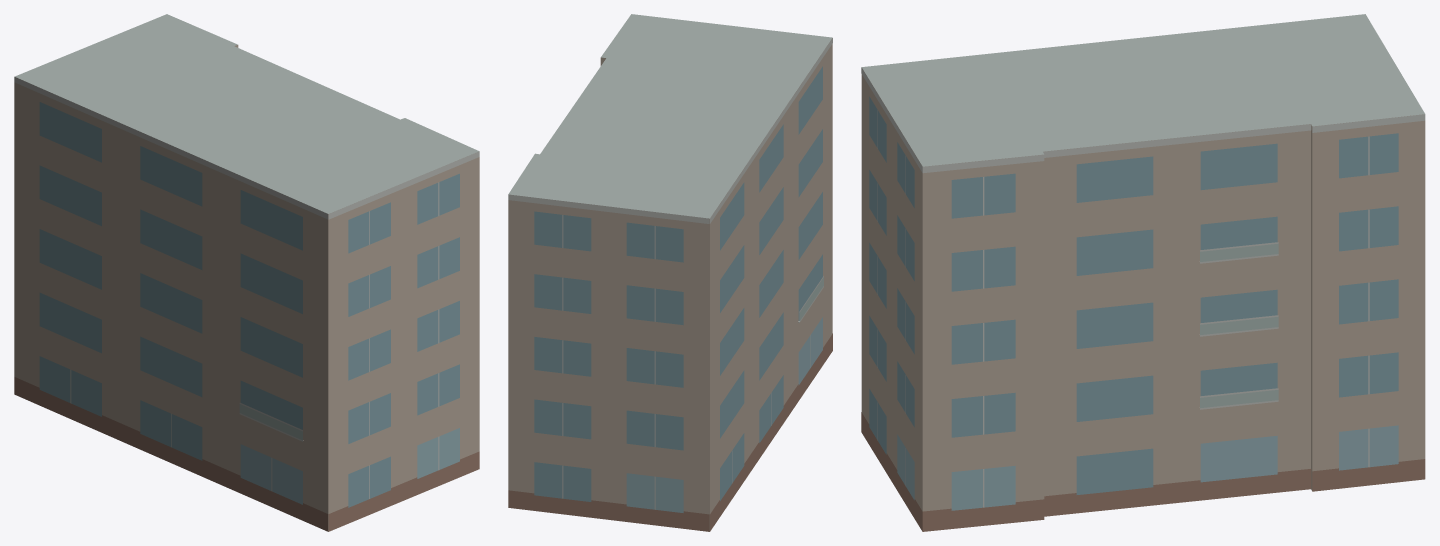
File: survey-upis-32646894.glb
3 renders of one model, left to right at view 1: azimuth 30°, elevation 25°; view 2: azimuth 150°, elevation 25°; view 3: azimuth 270°, elevation 25°, orthographic. The views are drawn at different scales.
Parts seen in each view (by area): view 1: survey-upis-32646894.tmp; view 2: survey-upis-32646894.tmp; view 3: survey-upis-32646894.tmp.
Boxes of the visible parts, x1,y1,x2,y2 form: survey-upis-32646894.tmp: (14,14,479,531); survey-upis-32646894.tmp: (508,14,832,531); survey-upis-32646894.tmp: (861,14,1425,531).
Size of the model in its own units: 12.25 by 13.65 by 19.11.
